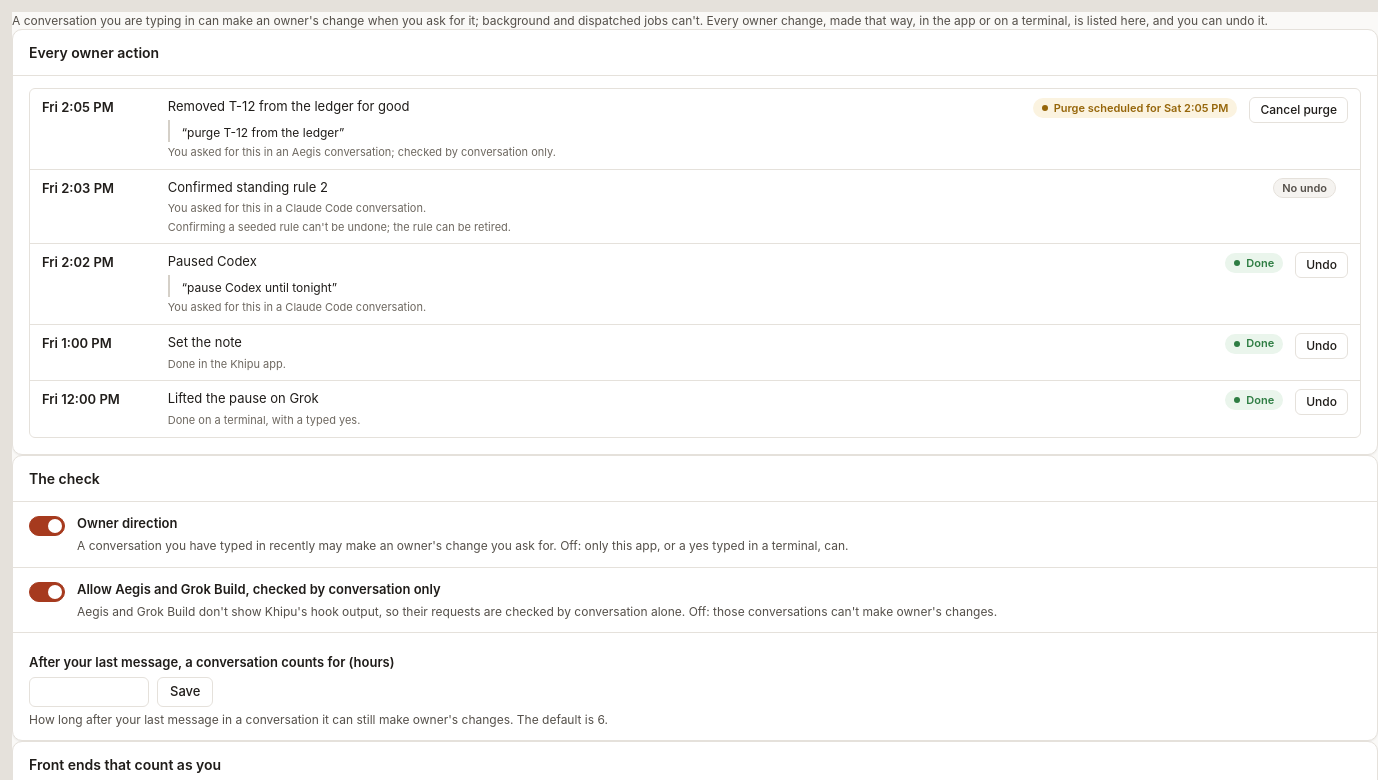
Test: Owner actions › shows the app's and a terminal's changes with how they were made, each with Undo
The width and height of the screenshot is (1378, 780).
Expected: the list item "Fri 1:00 PM Set the note Done Done in the Khipu app. Undo" is shown, [30,325,1360,381]
Expected: the list item that starts with "Fri 12:00 PM" shows "Lifted the pause on Grok", [168,390,319,406]
Click the button with aria-label "Undo: Lifted the pause on Grok" at (1322, 402), box [1295,389,1348,415]
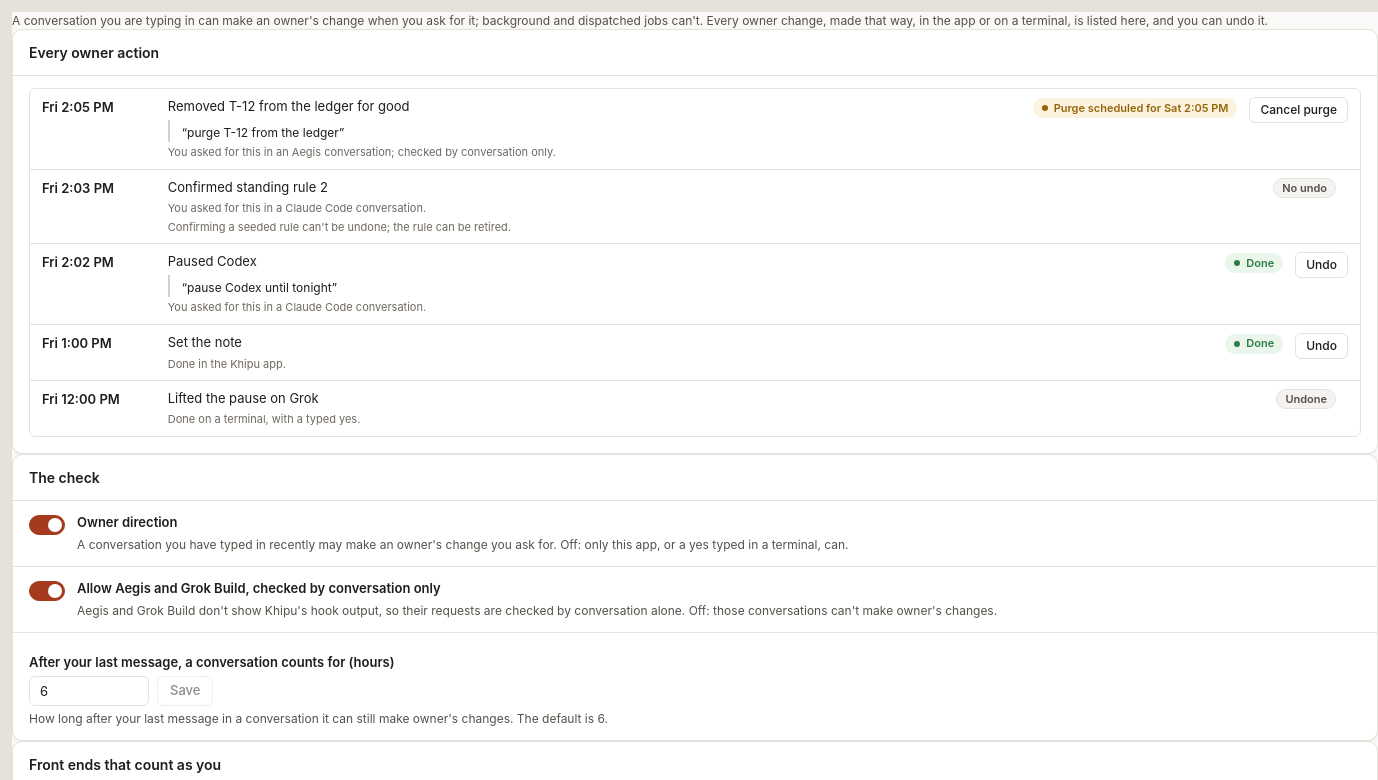
Expected: the button with aria-label "Undo: Set the note" is shown, [1295,333,1348,359]
Expected: the text "Undone" is shown, [1276,389,1336,409]
